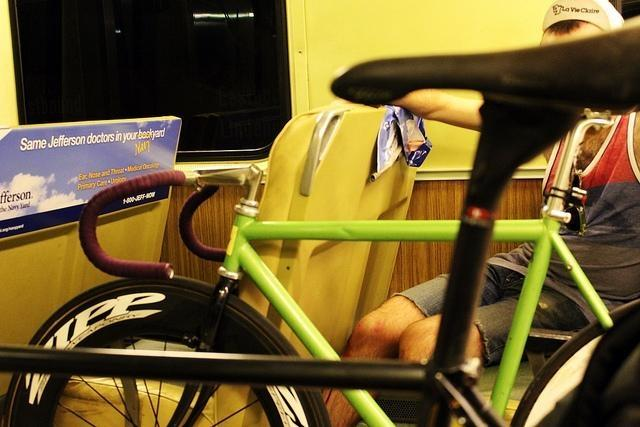bicycle: (2, 27, 639, 423), (24, 162, 463, 360)
